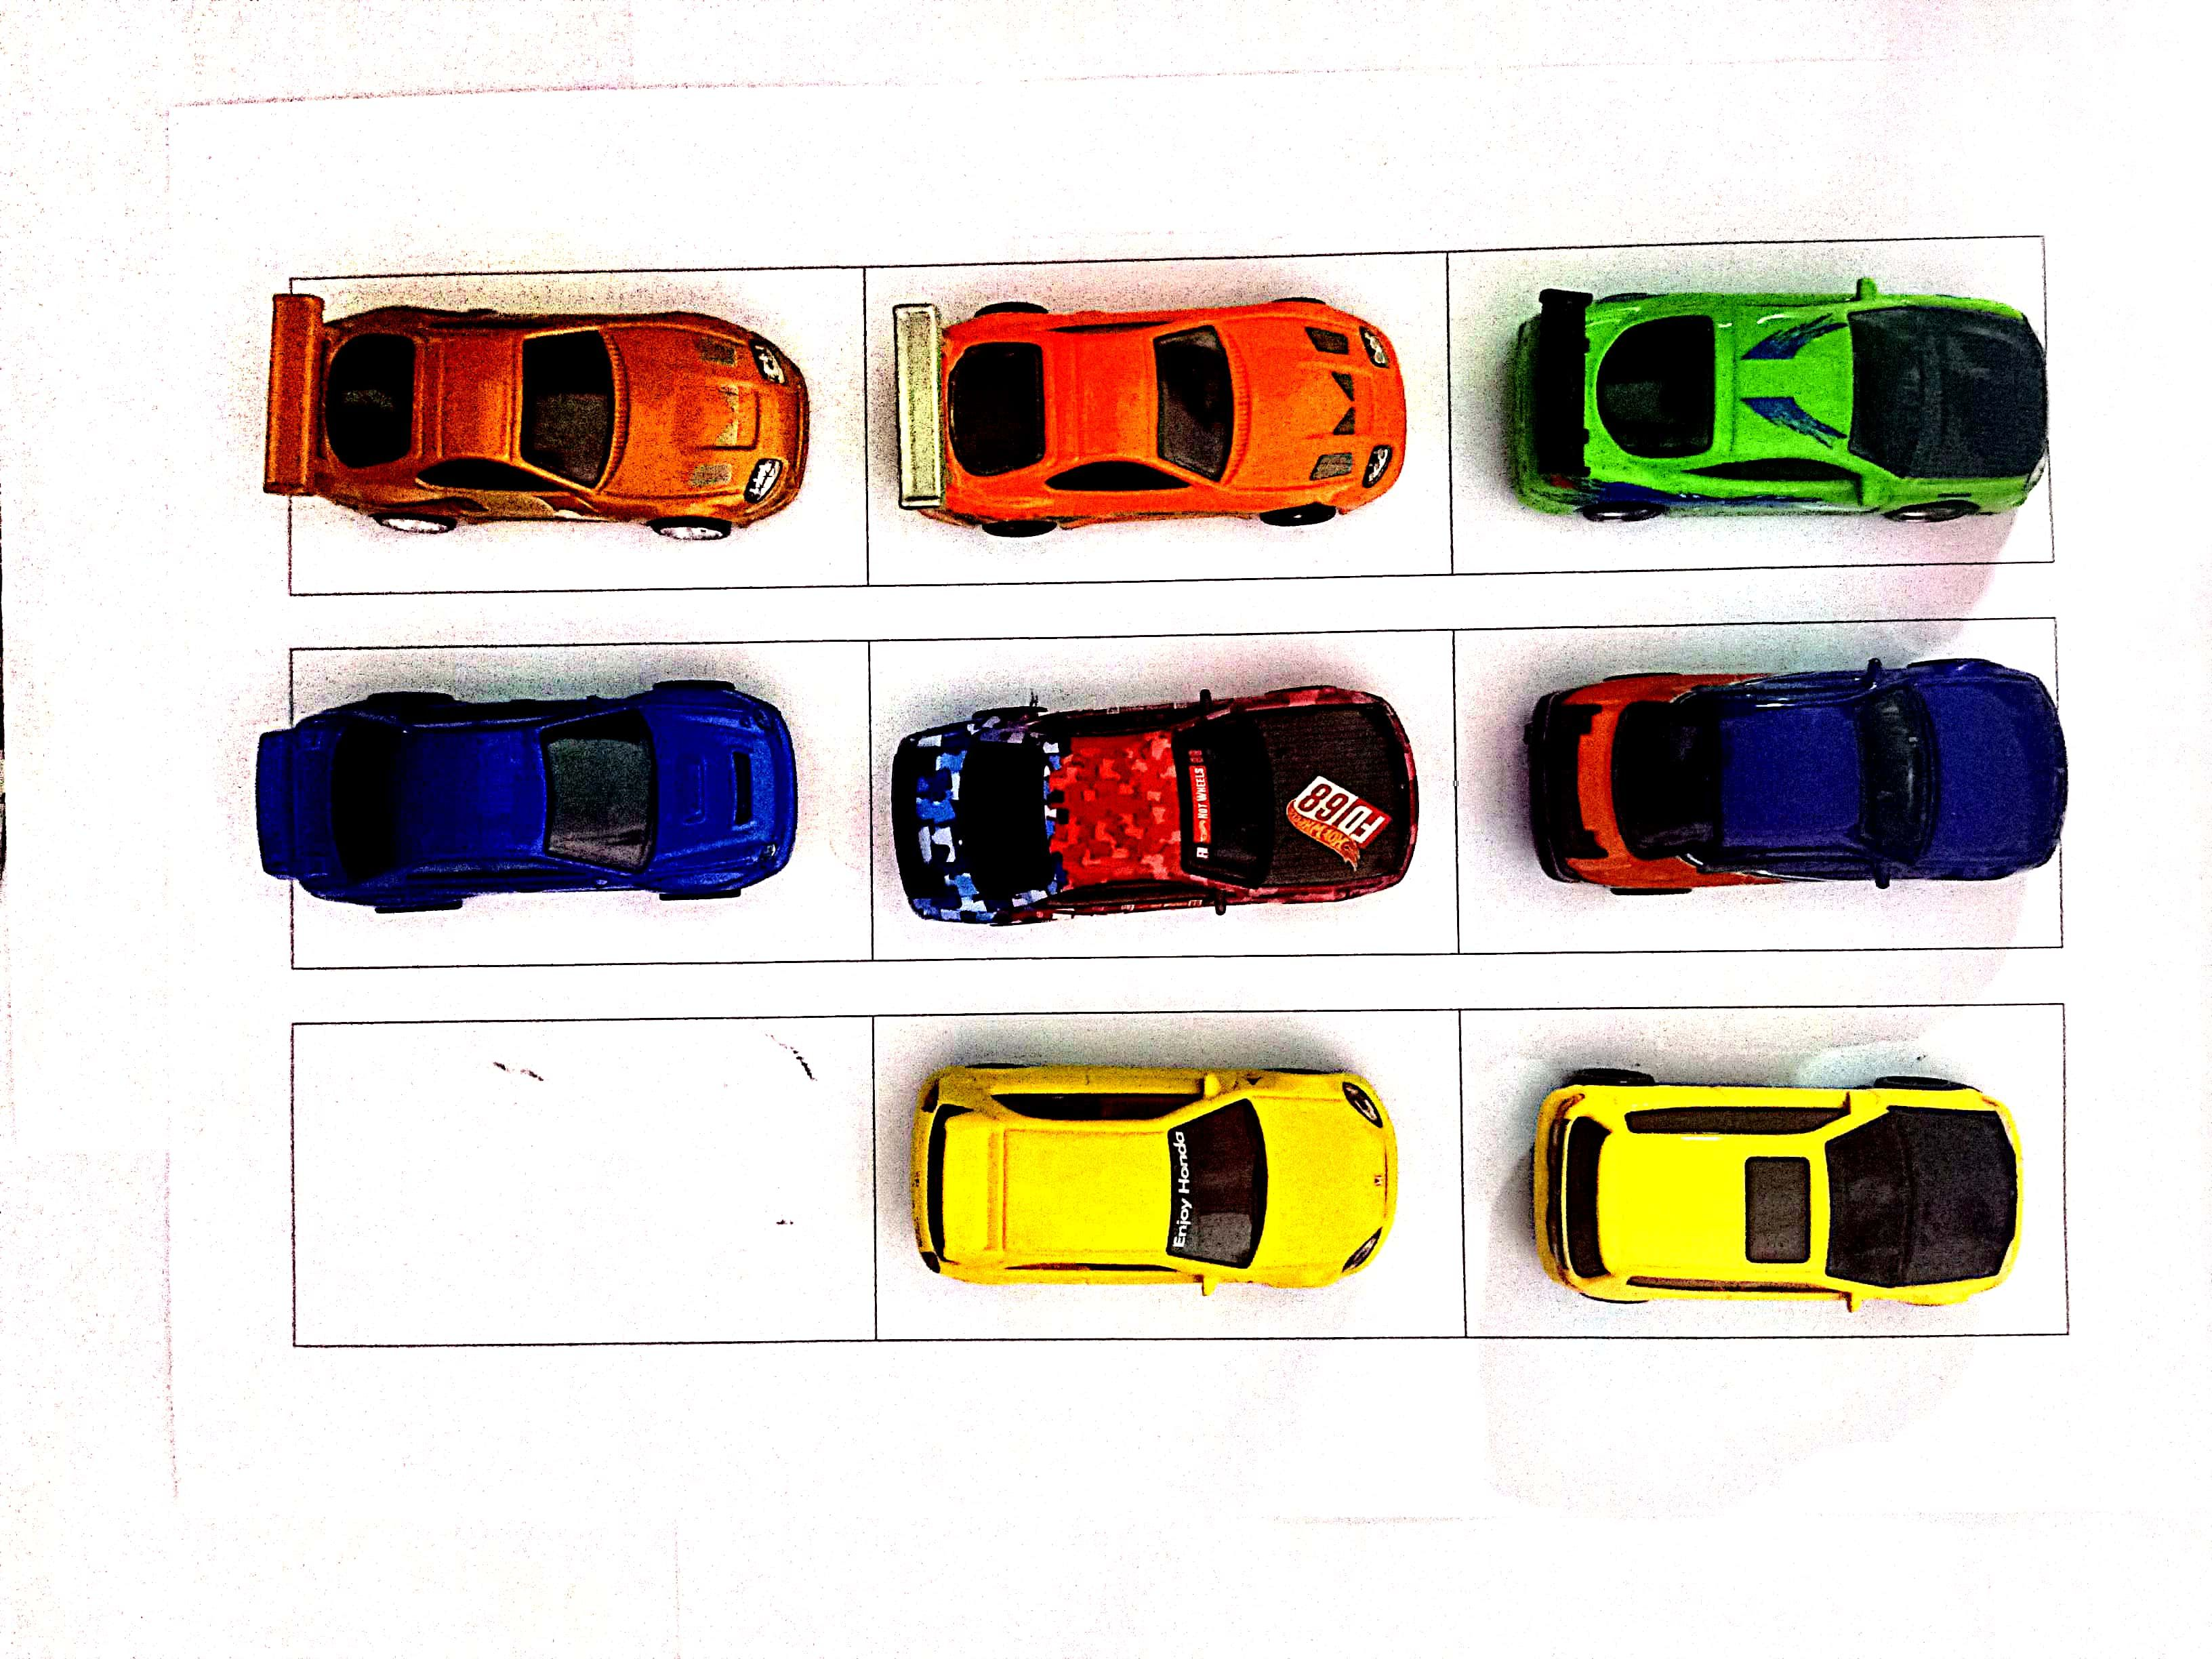Busy: (1449, 237, 2041, 572), (1460, 1009, 2062, 1337), (1458, 619, 2047, 946), (874, 1011, 1458, 1337), (874, 631, 1454, 958), (294, 640, 871, 964), (291, 272, 869, 593), (871, 258, 1442, 580)
Free: (296, 1026, 871, 1340)
